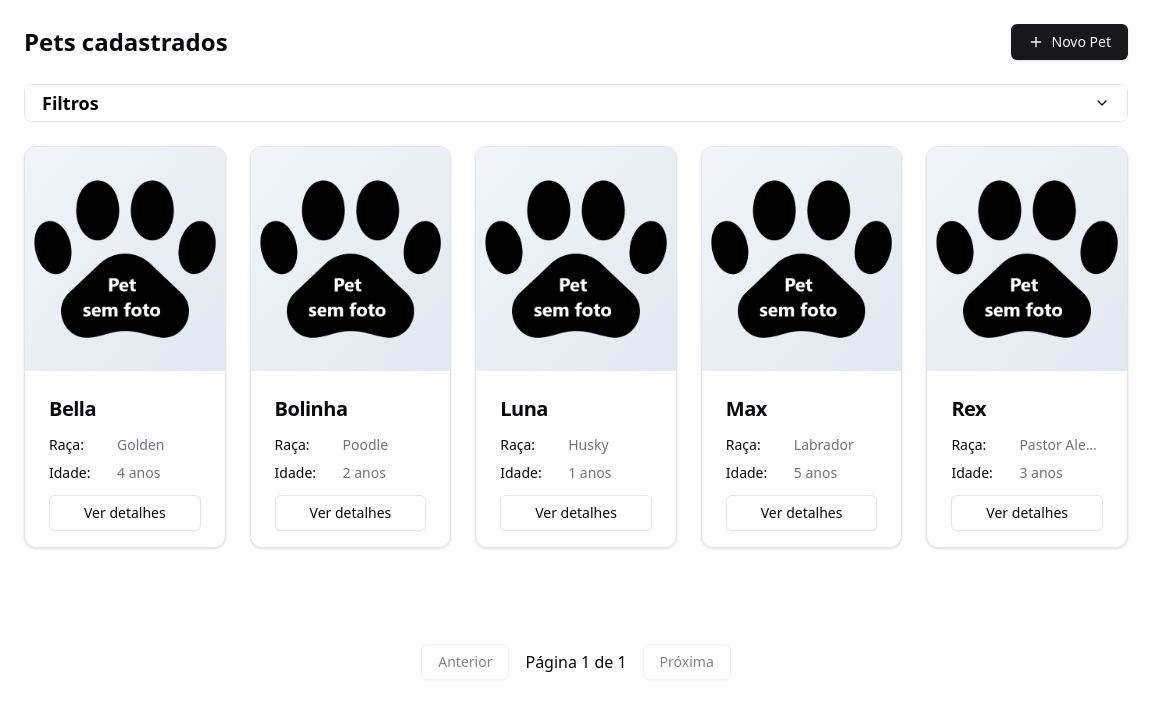
Test: PetsLista › pesquisa por nome filtra resultados localmente
Expected: the text "Rex" is shown, [951,395,986,422]
Expected: the text "Bolinha" is shown, [275,395,348,422]
// Abrir o collapsible de filtros
Click the button "Filtros" at (70,103), box [25,85,1127,121]
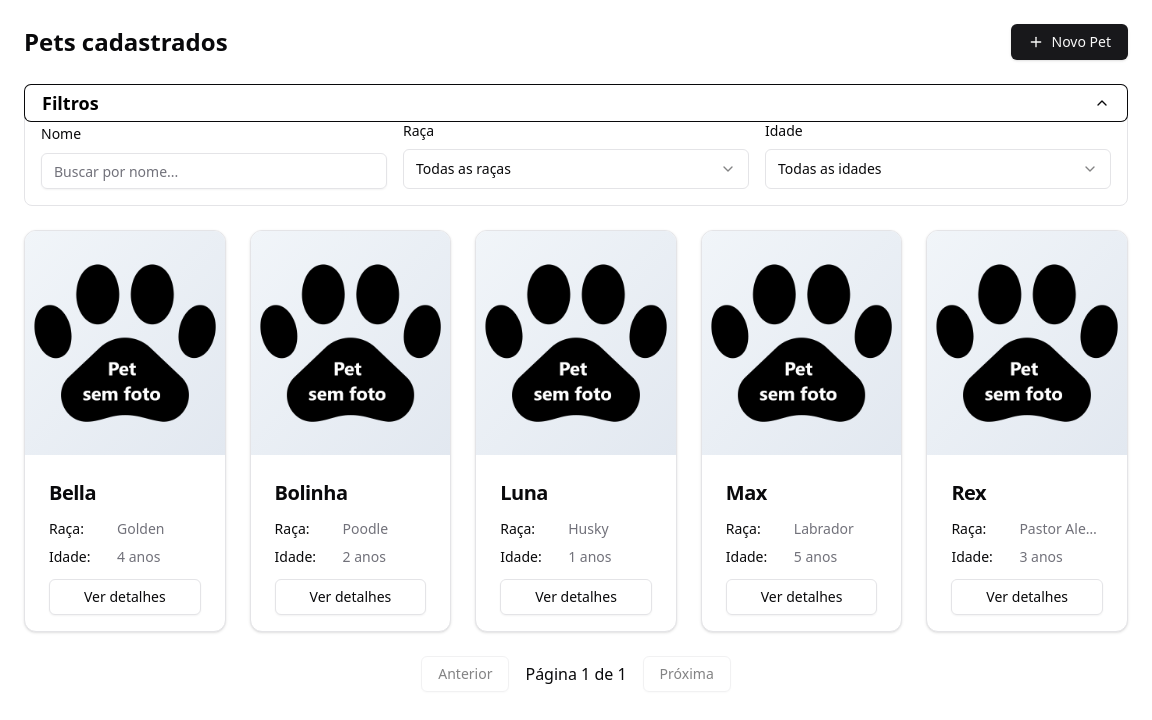
// Digitar no campo de busca
Type "Rex" into the field with placeholder "Buscar por nome..." at (214,171), box [41,153,387,189]
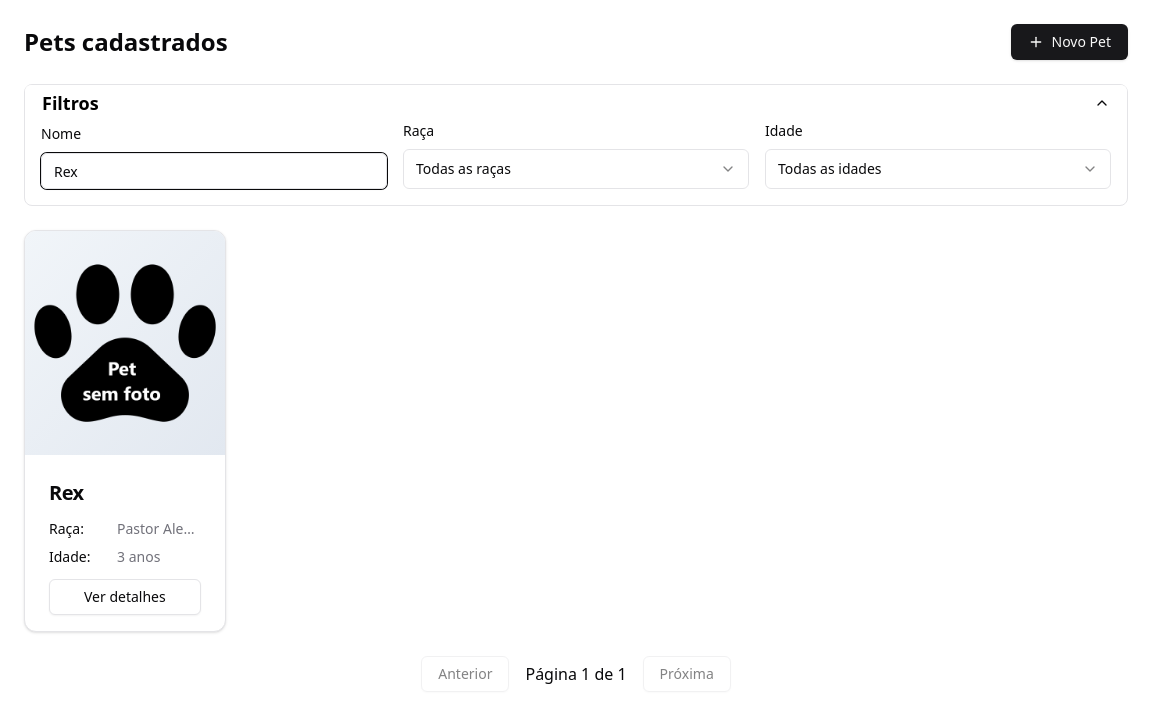
Result: the text "Bolinha" is gone
Result: the text "Max" is gone
Result: the text "Bella" is gone
